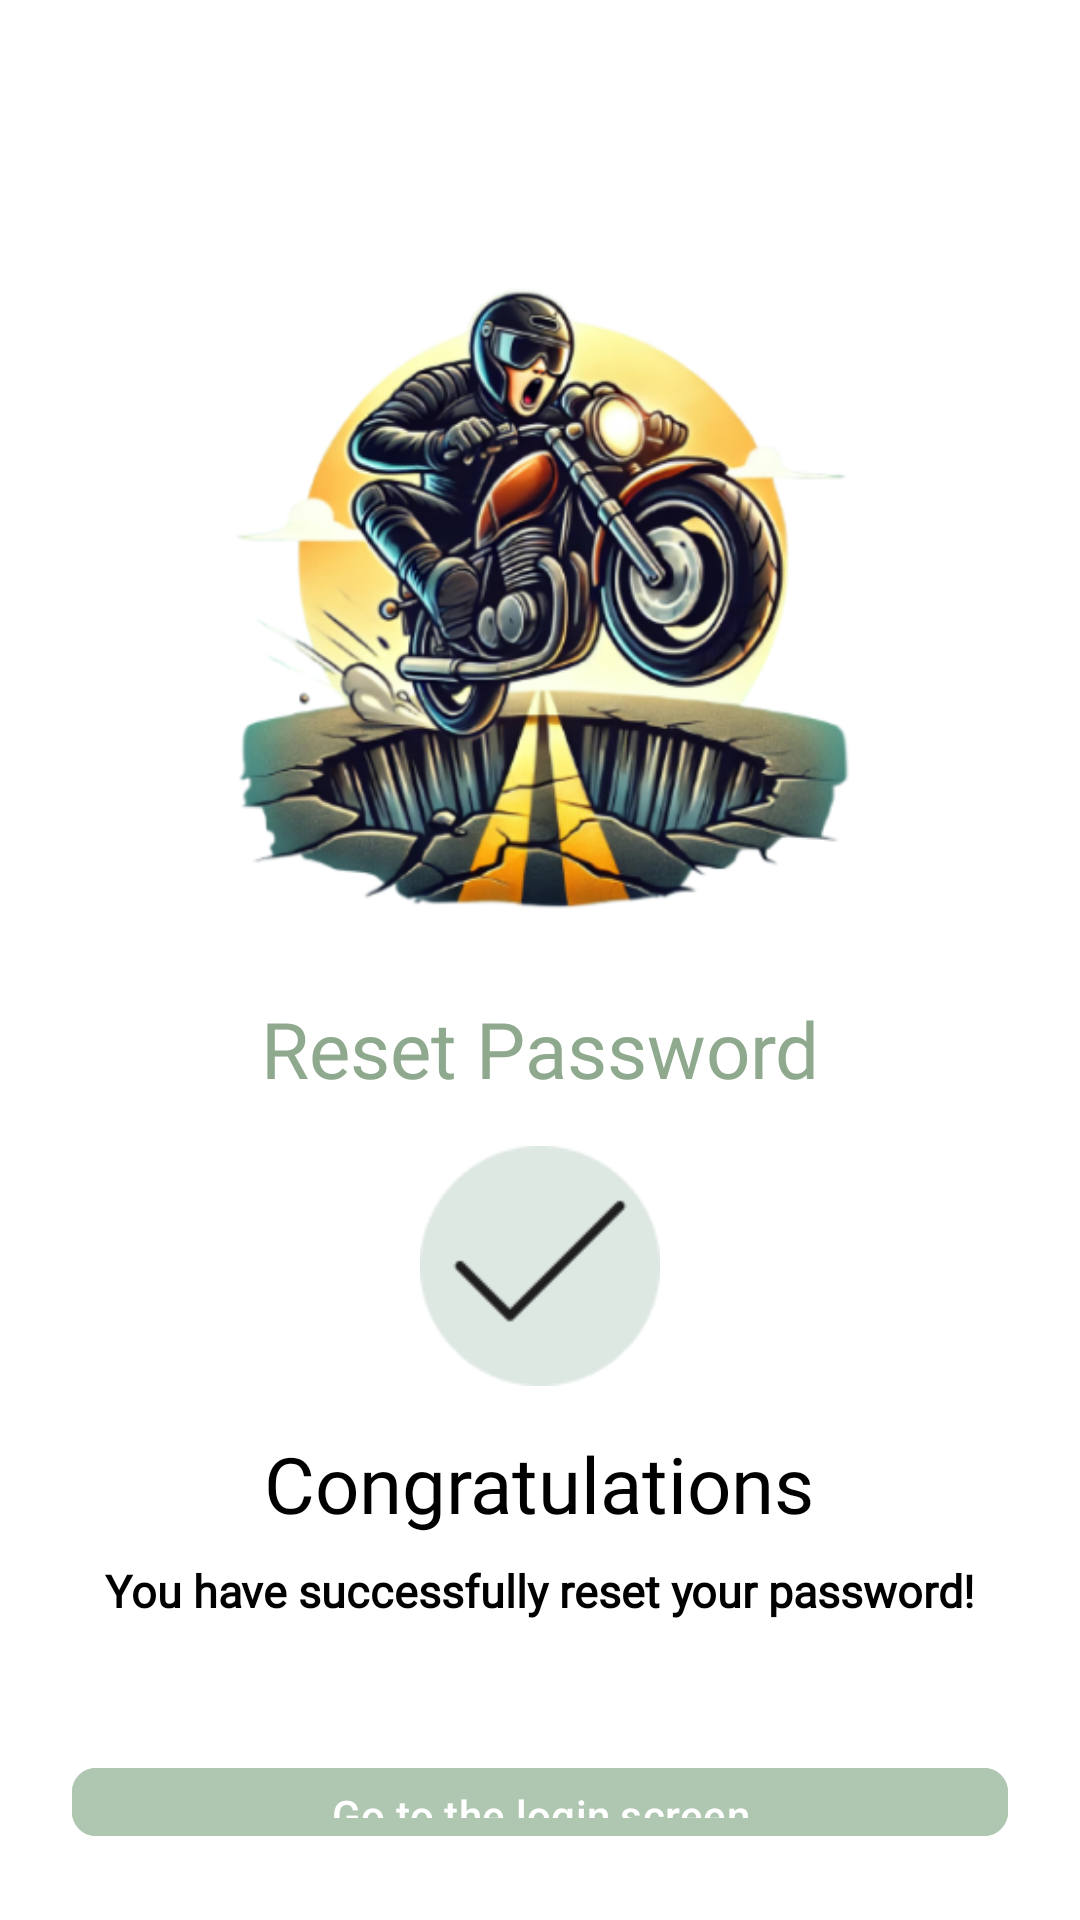

Named icons in this screenshot (1080w x 1920h) and their bounding boxes, rect(x1, y1, x2, y2):
tickk: rect(420, 1146, 660, 1386)
